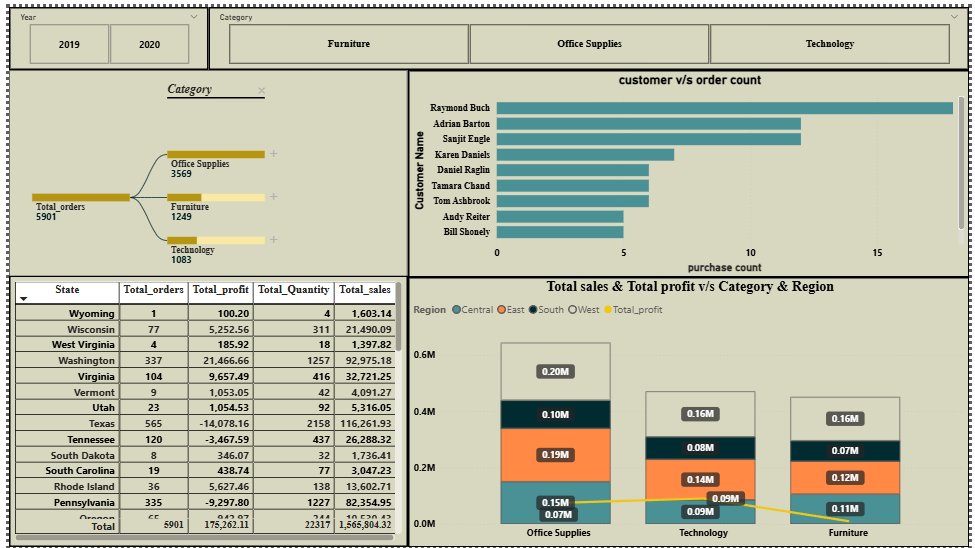

This screenshot's page, from the dashboard's own definition file:
{"tool":"powerbi","page":{"name":"3","canvas":[1280,720],"ordinal":2},"visuals":[{"type":"barChart","title":"customer v/s order count","fields":{"Category":["Sheet1.Customer Name"],"Y":["CountNonNull(Sheet1.Customer Name)"]},"box":[531.7,83.3,748.3,276.7],"z":0},{"type":"decompositionTreeVisual","fields":{"Analyze":["Sheet1.Total_orders"],"ExplainBy":["Sheet1.Category","Sheet1.Payment Mode"]},"box":[0,83.2,531,275.9],"z":1000},{"type":"pivotTable","fields":{"Values":["Sheet1.Total_orders","Sheet1.Total_profit","Sheet1.Total_Quantity","Sheet1.Total_sales"],"Rows":["Sheet1.State"]},"box":[0,358.3,531.7,361.7],"z":2000},{"type":"lineStackedColumnComboChart","title":"Total sales & Total profit v/s Category &  Region","fields":{"Category":["Sheet1.Category"],"Y":["Sheet1.Total_sales"],"Y2":["Sheet1.Total_profit"],"Series":["Sheet1.Region"]},"box":[531,359.1,748.4,360.9],"z":3000},{"type":"slicer","fields":{"Values":["Sheet1.Order Date.Variation.Date Hierarchy.Year"]},"box":[0,0,266,84],"z":4000},{"type":"slicer","fields":{"Values":["Sheet1.Category"]},"box":[266,0,1014,84],"z":5000}]}

Visuals, with their boxes in screenshot pixels (x1, y1, x2, y2), scaled from the page's 1280x720 canvas onto the 975x548 screenshot:
"customer v/s order count" barChart: box(405, 63, 974, 274)
decompositionTreeVisual - Sheet1.Total_orders x Sheet1.Category: box(0, 63, 404, 273)
pivotTable - Sheet1.Total_orders x Sheet1.Total_profit: box(0, 273, 405, 547)
"Total sales & Total profit v/s Category &  Region" lineStackedColumnComboChart: box(404, 273, 974, 547)
slicer - Sheet1.Order Date.Variation.Date Hierarchy.Year: box(0, 0, 203, 64)
slicer - Sheet1.Category: box(203, 0, 974, 64)
